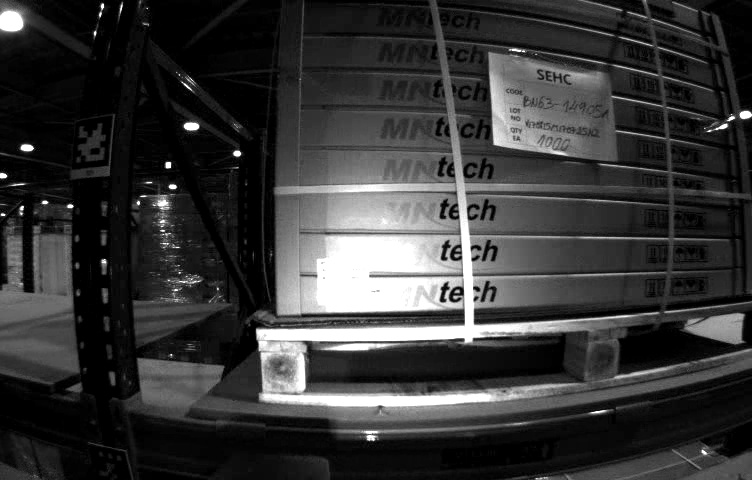True Barcode: (316, 258, 369, 301)
